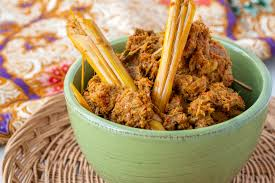rendang: (64, 10, 267, 138)
